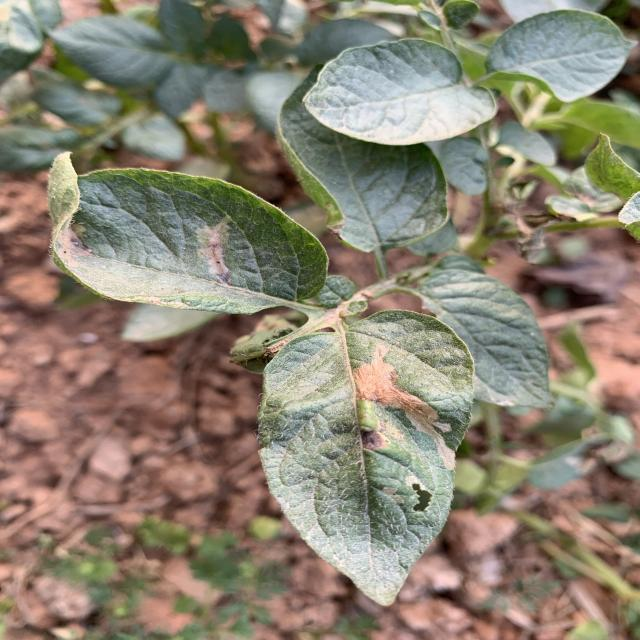lateblight: (353, 344, 455, 470), (52, 204, 93, 271), (197, 218, 232, 285), (357, 399, 388, 451)
